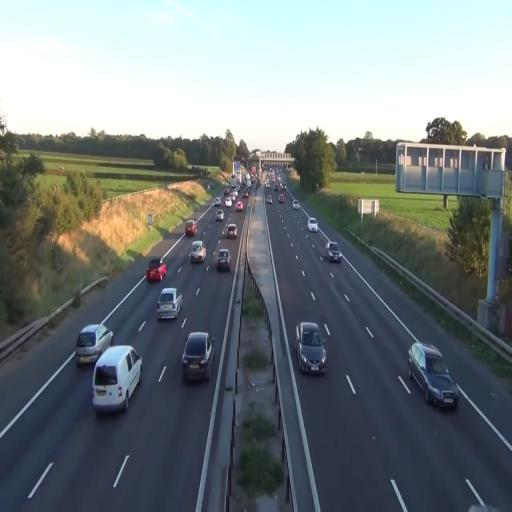vehicle: (92, 344, 142, 414), (408, 342, 459, 410), (181, 330, 215, 383), (296, 320, 326, 376), (75, 322, 113, 366), (156, 287, 184, 322), (146, 260, 168, 285), (189, 238, 206, 265), (215, 247, 231, 272), (326, 241, 341, 262), (214, 204, 225, 222), (226, 223, 237, 237), (308, 218, 318, 232)
